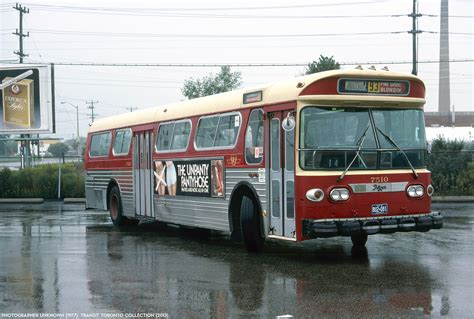bus: (83, 78, 434, 253)
